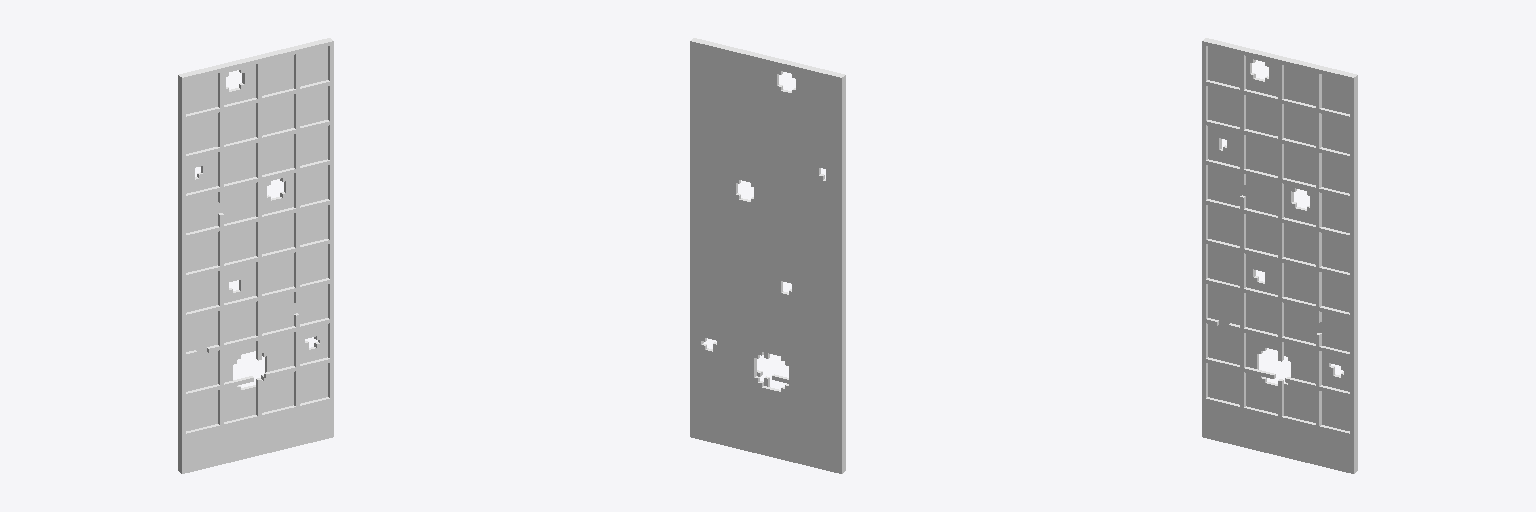
File: Environment-2.obj
3 renders of one model, left to right at view 1: azimuth 30°, elevation 25°; view 2: azimuth 150°, elevation 25°; view 3: azimuth 330°, elevation 25°, orthographic.
Parts seen in each view (by area): view 1: object 1; view 2: object 1; view 3: object 1.
Part boxes in pixels (x1,y1,x2,y2): object 1: (178,38,333,473); object 1: (690,38,845,473); object 1: (1202,38,1357,473).
Size of the model in its own units: 4 by 10 by 0.2.